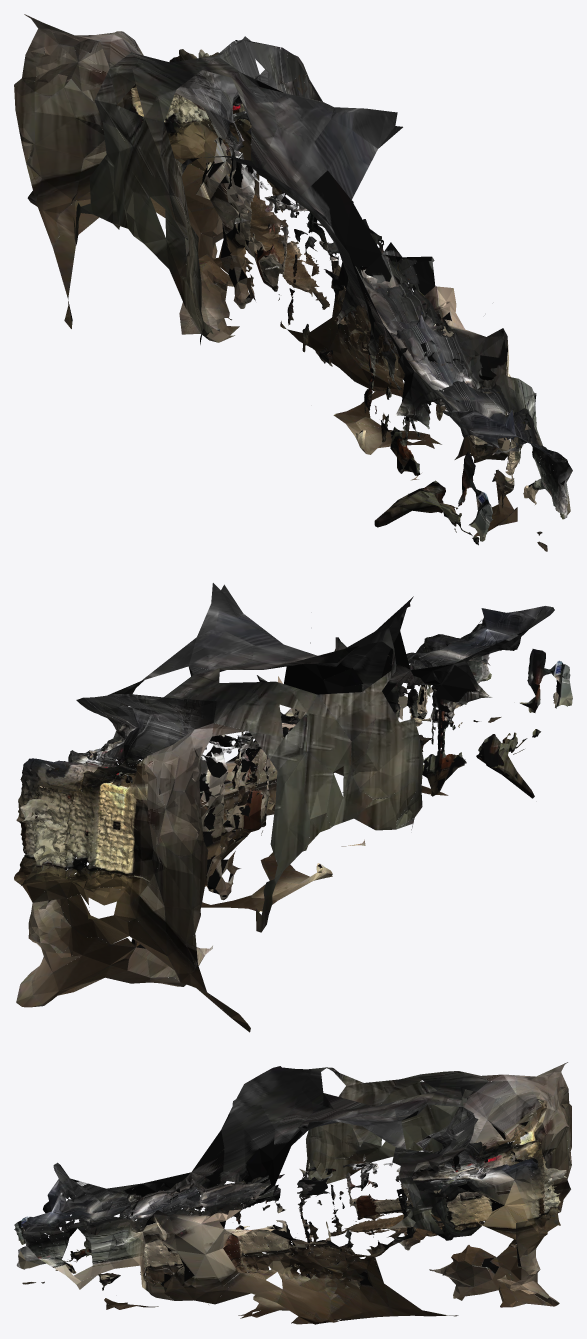
File: Floor4Benedum.compressed.glb
The picture shows the model from 3 angles, top to bottom: view 1: azimuth 30°, elevation 25°; view 2: azimuth 150°, elevation 25°; view 3: azimuth 270°, elevation 25°; orthographic projection. The views are drawn at different scales.
Parts seen in each view (by area): view 1: texturedMesh; view 2: texturedMesh; view 3: texturedMesh.
Boxes of the visible parts, box(x1,y1,x2,y2) form: texturedMesh: box(14, 14, 572, 551); texturedMesh: box(14, 583, 572, 1032); texturedMesh: box(14, 1062, 571, 1324).
Bounding box in the file's own units: 0.928 × 1.22 × 3.06.
Materials: 6 (6 with a texture image).
